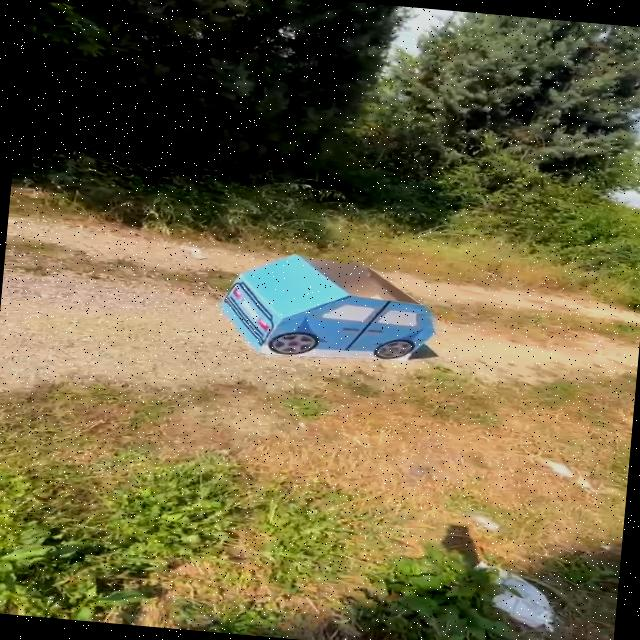blue_car: (197, 231, 479, 392)
